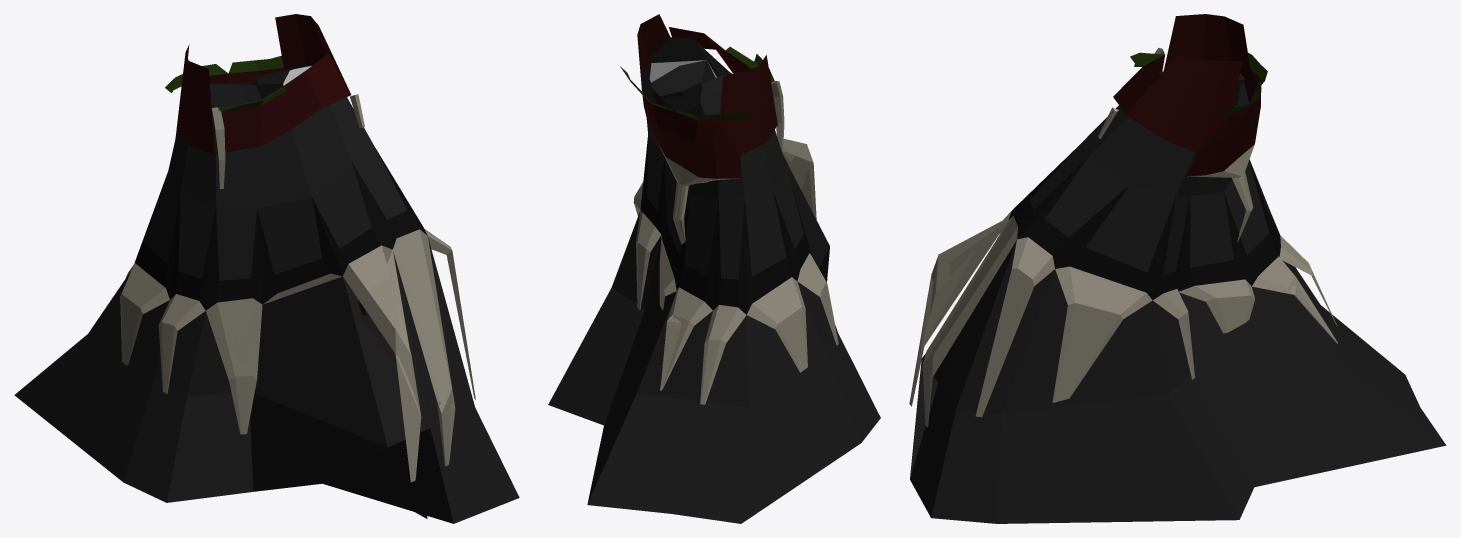
The model's file is bloodmage lowerbody.fbx.
The picture shows the model from 3 angles, left to right: view 1: azimuth 30°, elevation 25°; view 2: azimuth 150°, elevation 25°; view 3: azimuth 270°, elevation 25°; orthographic projection. The views are drawn at different scales.
Parts seen in each view (by area): view 1: EvilWizard; view 2: EvilWizard; view 3: EvilWizard.
Boxes of the visible parts, <box> form: EvilWizard: <box>14,14,519,523</box>; EvilWizard: <box>548,14,880,523</box>; EvilWizard: <box>909,14,1446,523</box>.
Size of the model in its own units: 6.98 by 10.55 by 9.2.
